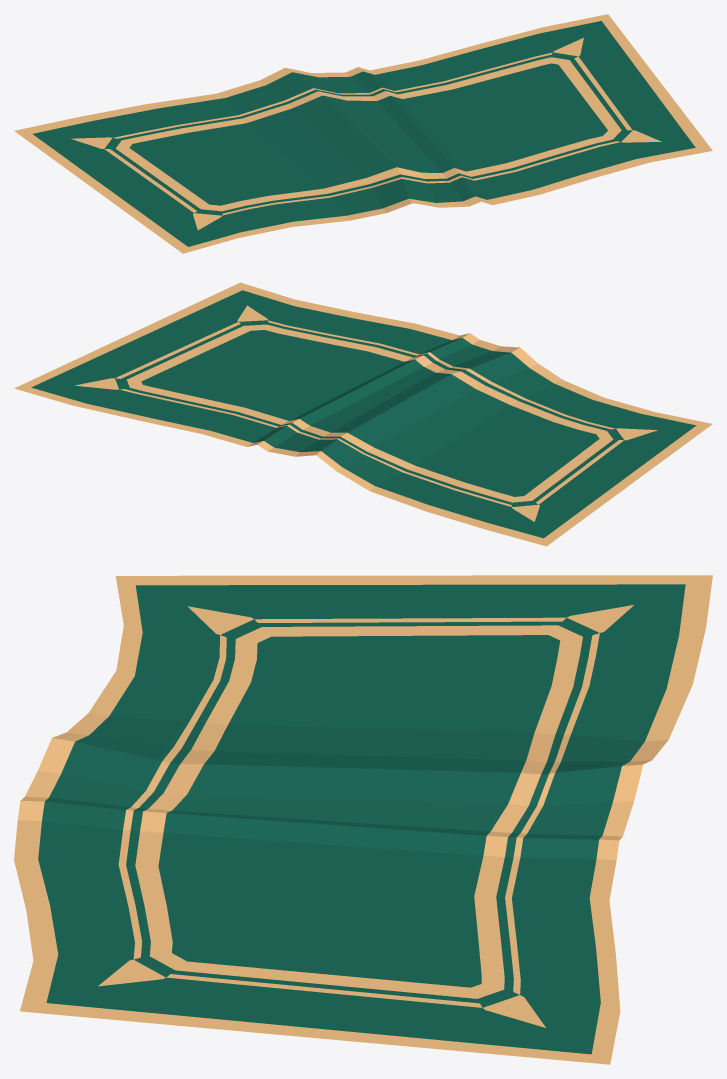
Rendered from SFHW_Rug_006.fbx.
3 renders of one model, top to bottom at view 1: azimuth 30°, elevation 25°; view 2: azimuth 150°, elevation 25°; view 3: azimuth 270°, elevation 25°, orthographic. The views are drawn at different scales.
Parts seen in each view (by area): view 1: SFHW_Rug_006; view 2: SFHW_Rug_006; view 3: SFHW_Rug_006.
Boxes of the visible parts, x1,y1,x2,y2 form: SFHW_Rug_006: (14, 14, 712, 253); SFHW_Rug_006: (14, 282, 712, 546); SFHW_Rug_006: (14, 575, 712, 1064).
Size of the model in its own units: 143 by 3.92 by 86.56.
